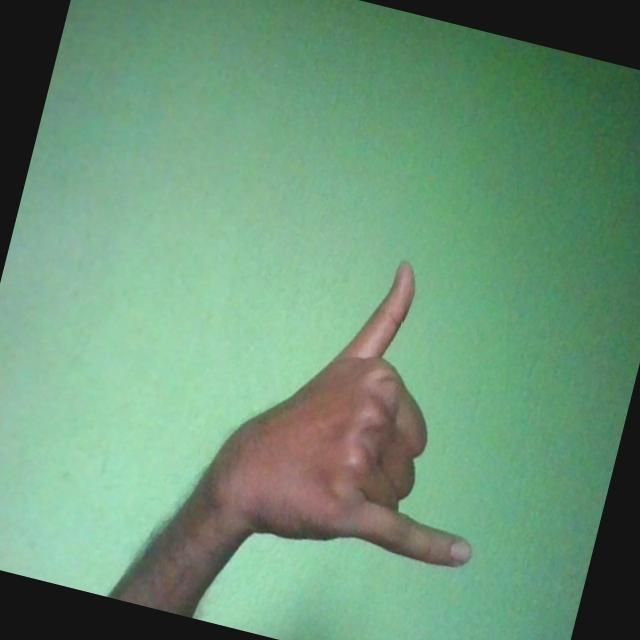Call Me: (192, 224, 536, 584)
